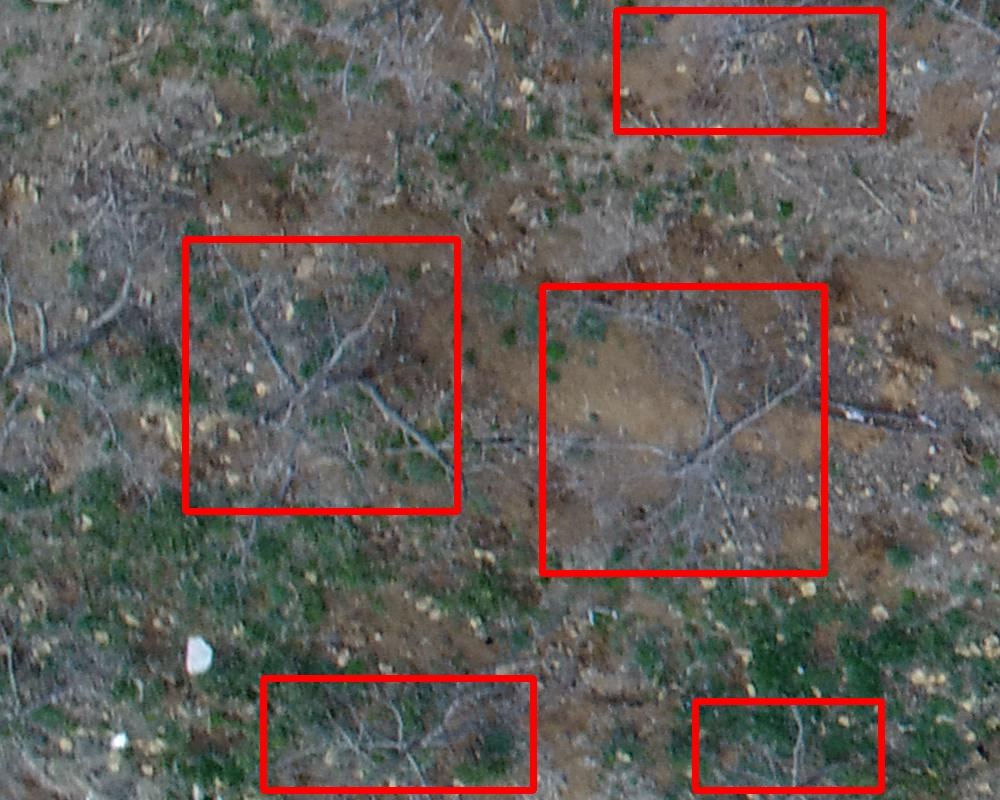apple: (542, 286, 824, 573), (185, 239, 457, 511), (616, 10, 882, 131), (263, 678, 533, 790), (695, 701, 881, 790)
